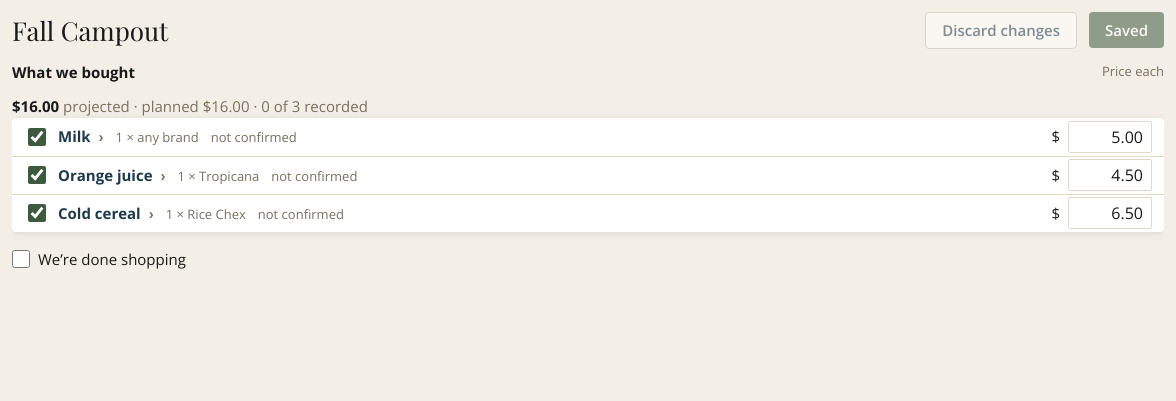
Test case: What we bought — the accordion › OpeningARow_ShowsThePlan_AndTheChoicesInline
Click the button "Cold cereal ›" at (106, 213), box [58,202,154,224]
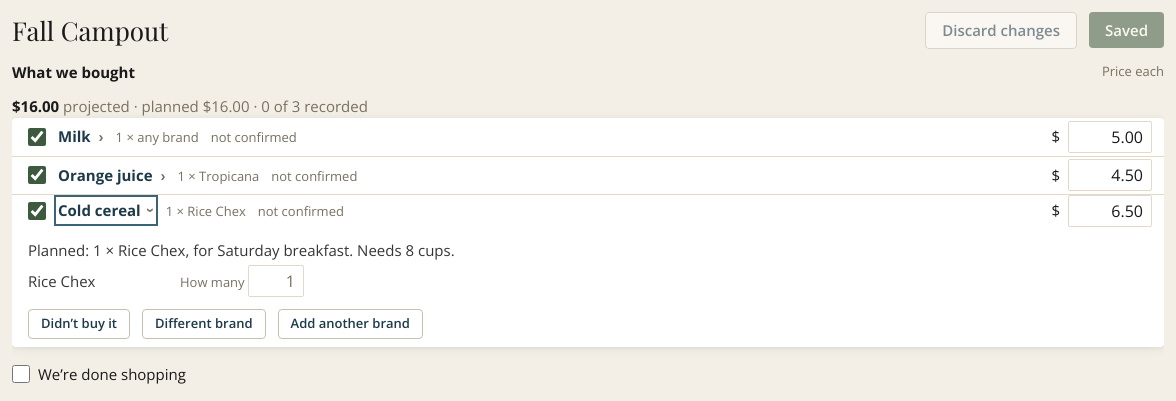
expect the text "Planned: 1 × Rice Chex, for Saturday breakfast. Needs 8 cups." is shown: met, box [28,240,455,260]
